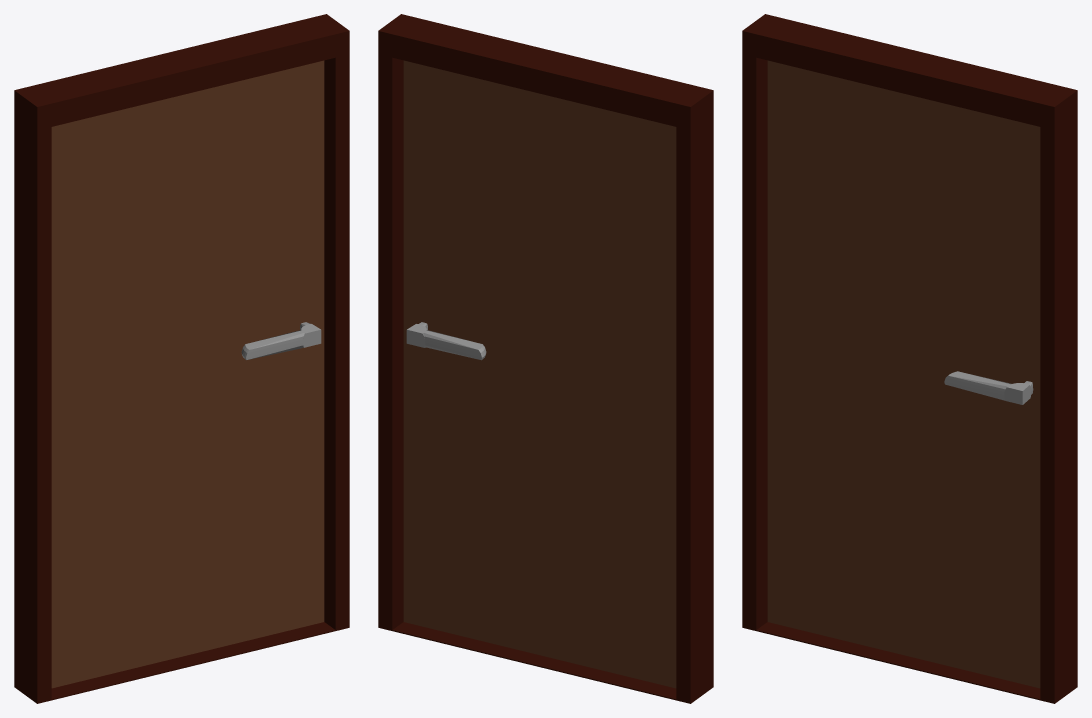
Rendered from porte.fbx.
3 views of the same model, side by side, from view 1: azimuth 30°, elevation 25°; view 2: azimuth 150°, elevation 25°; view 3: azimuth 330°, elevation 25° (orthographic).
Parts seen in each view (by area): view 1: Cube, Sphere; view 2: Cube, Sphere; view 3: Cube, Sphere.
Part boxes in pixels (x1,y1,x2,y2): Cube: (14, 14, 349, 703); Sphere: (241, 322, 321, 360); Cube: (378, 14, 713, 703); Sphere: (406, 322, 486, 360); Cube: (742, 14, 1077, 703); Sphere: (944, 371, 1033, 404).
Size of the model in its own units: 110 by 200 by 18.01.
